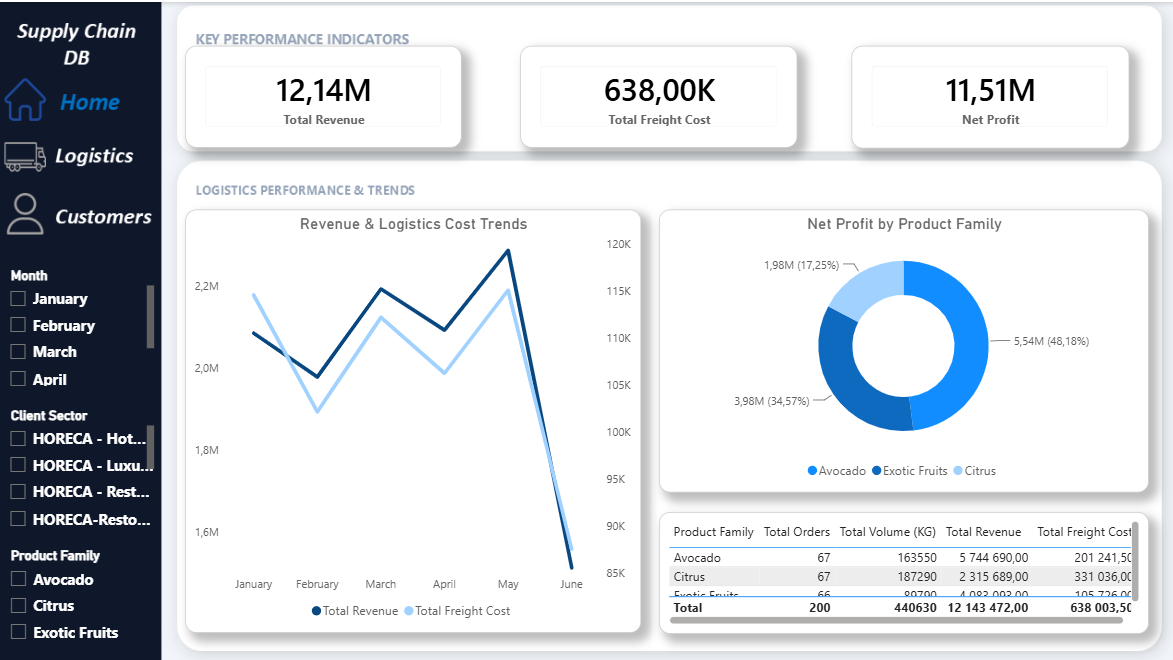

The dashboard page shown, as its layout file describes it:
{"tool":"powerbi","page":{"name":"Home","canvas":[1280,720],"ordinal":0},"visuals":[{"type":"actionButton","box":[0,146.9,173.1,49.6],"z":0},{"type":"actionButton","box":[0,204.3,173.1,57.4],"z":1000},{"type":"slicer","fields":{"Values":["Dim_Calendar.Nom Mois"]},"box":[0,283,173.1,138.1],"z":2000},{"type":"slicer","fields":{"Values":["Dim_Clients_Costs.Client_Name"]},"box":[0,433.8,173.1,140.1],"z":3000},{"type":"slicer","fields":{"Values":["Fact_Sales_Transactions.Product_Family"]},"box":[0,585.5,173.1,115.7],"z":4000},{"type":"cardVisual","fields":{"Data":["_Measures.Total Revenue"]},"box":[201.2,48,299.3,110.3],"z":5000},{"type":"cardVisual","fields":{"Data":["_Measures.Total Freight Cost"]},"box":[563.9,48,300.3,110.3],"z":6000},{"type":"cardVisual","fields":{"Data":["_Measures.Net Profit"]},"box":[923,47.7,300.5,110.9],"z":7000},{"type":"lineChart","title":"Revenue & Logistics Cost Trends","fields":{"Category":["Dim_Calendar.Nom Mois"],"Y":["_Measures.Total Revenue"],"Y2":["_Measures.Total Freight Cost"]},"box":[201.2,224.7,493.4,458.7],"z":8000},{"type":"donutChart","title":"Net Profit by Product Family","fields":{"Y":["_Measures.Net Profit"],"Category":["Fact_Sales_Transactions.Product_Family"]},"box":[714.1,224.7,530.2,306.5],"z":9000},{"type":"tableEx","fields":{"Values":["Fact_Sales_Transactions.Product_Family","_Measures.Total Orders","Sum(Fact_Sales_Transactions.Volume_KG)","_Measures.Total Revenue","_Measures.Total Freight Cost"]},"box":[714.1,551.6,530.2,131.8],"z":10000}]}

Visuals, with their boxes in screenshot pixels (x1, y1, x2, y2), scaled from the page's 1280x720 canvas onto the 1173x660 screenshot:
actionButton: Rect(0, 135, 159, 180)
actionButton: Rect(0, 187, 159, 240)
slicer - Dim_Calendar.Nom Mois: Rect(0, 259, 159, 386)
slicer - Dim_Clients_Costs.Client_Name: Rect(0, 398, 159, 526)
slicer - Fact_Sales_Transactions.Product_Family: Rect(0, 537, 159, 643)
cardVisual - _Measures.Total Revenue: Rect(184, 44, 459, 145)
cardVisual - _Measures.Total Freight Cost: Rect(517, 44, 792, 145)
cardVisual - _Measures.Net Profit: Rect(846, 44, 1121, 145)
"Revenue & Logistics Cost Trends" lineChart: Rect(184, 206, 637, 626)
"Net Profit by Product Family" donutChart: Rect(654, 206, 1140, 487)
tableEx - Fact_Sales_Transactions.Product_Family x _Measures.Total Orders: Rect(654, 506, 1140, 626)
